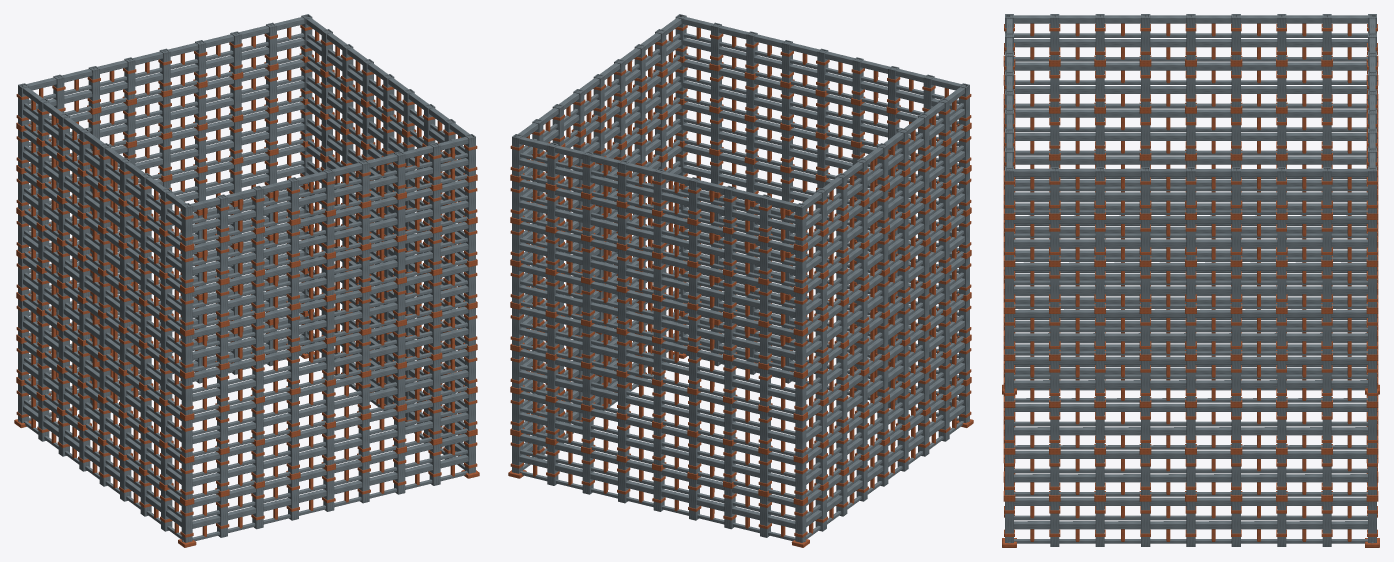
3 views of the same model, side by side, from view 1: azimuth 30°, elevation 25°; view 2: azimuth 150°, elevation 25°; view 3: azimuth 270°, elevation 25° (orthographic). The views are drawn at different scales.
Bounding box in the file's own units: 3.75 × 4.11 × 3.75.
Materials: 2 (2 with a texture image).
